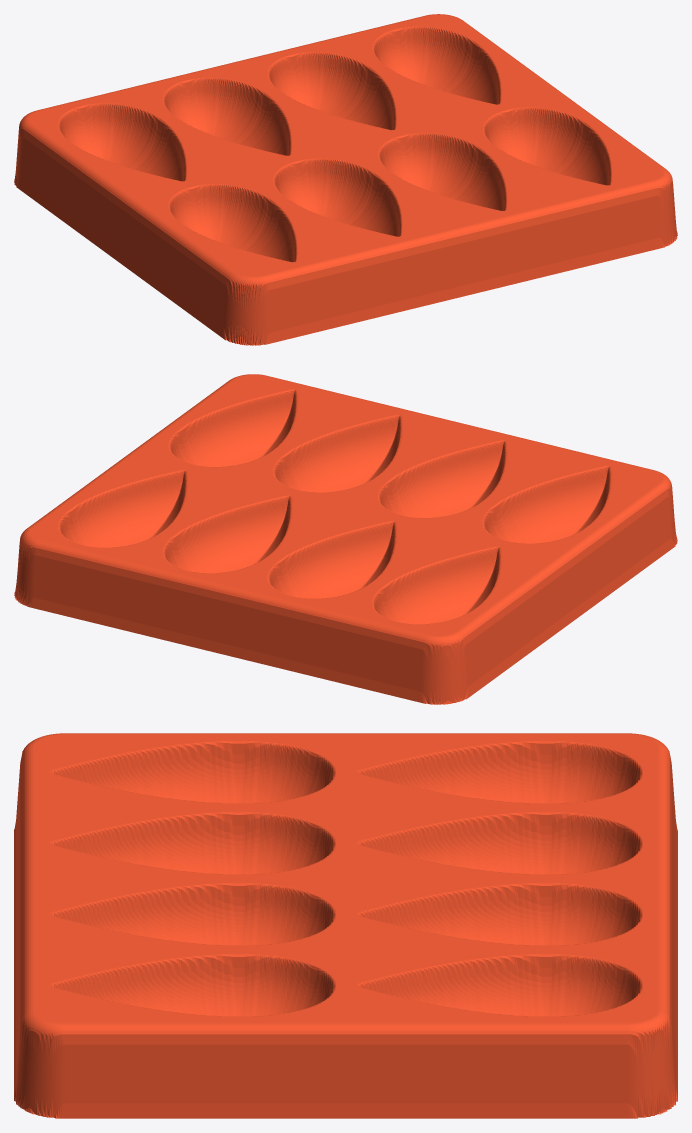
The model's file is mold.glb.
3 renders of one model, top to bottom at view 1: azimuth 30°, elevation 25°; view 2: azimuth 150°, elevation 25°; view 3: azimuth 270°, elevation 25°, orthographic. The views are drawn at different scales.
Visible parts, largest first — view 1: geometry_0; view 2: geometry_0; view 3: geometry_0.
Boxes of the visible parts, x1,y1,x2,y2 form: geometry_0: (14,14,677,345); geometry_0: (14,374,677,704); geometry_0: (14,733,677,1118).
Size of the model in its own units: 0.1316 by 0.0175 by 0.1209.
